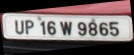character: (59, 20, 72, 35), (14, 19, 24, 34), (98, 21, 108, 36), (109, 21, 119, 36), (24, 19, 33, 34), (46, 20, 55, 35), (77, 21, 86, 36), (88, 21, 97, 36), (39, 19, 46, 35)
